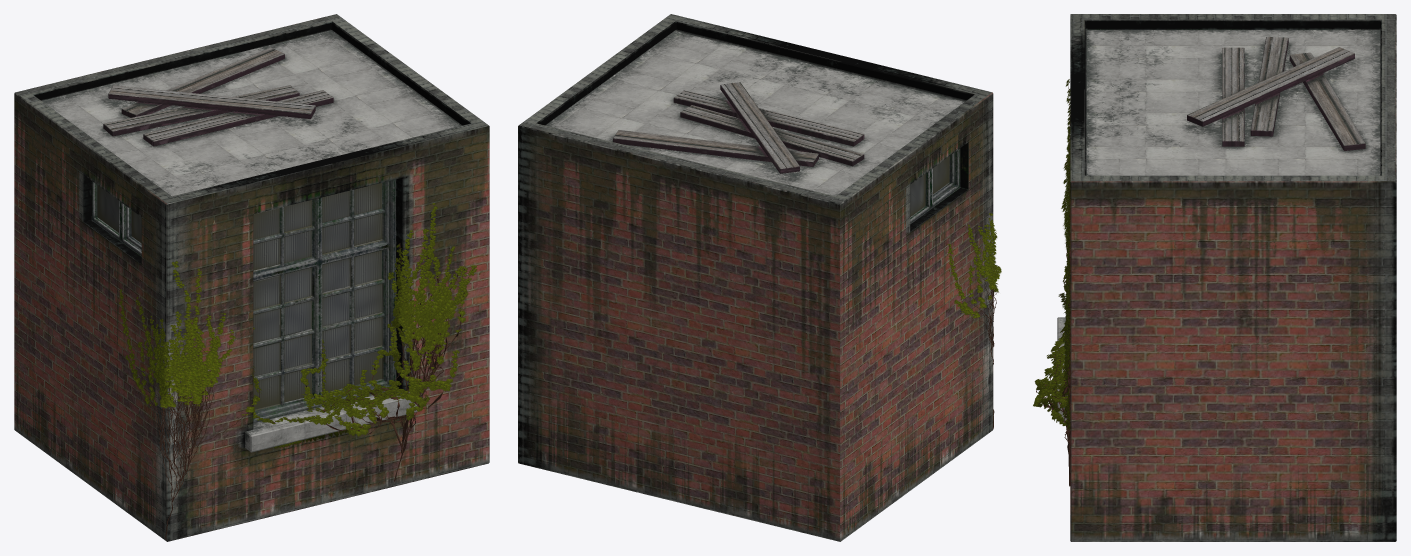
File: old_shack_rooftop_prop2_gameready.glb
The picture shows the model from 3 angles, left to right: view 1: azimuth 30°, elevation 25°; view 2: azimuth 150°, elevation 25°; view 3: azimuth 270°, elevation 25°; orthographic projection. The views are drawn at different scales.
Visible parts, largest first — view 1: Cube_0, IvyLeaf.001_3, IvyLeaf_1, IVY_Curve_2, IVY_Curve.001_4; view 2: Cube_0, IvyLeaf_1; view 3: Cube_0, IvyLeaf.001_3, IVY_Curve.001_4, IvyLeaf_1.
Part boxes in pixels (bbox=[...]): Cube_0: bbox=[14, 14, 489, 541]; IvyLeaf.001_3: bbox=[253, 203, 477, 448]; IvyLeaf_1: bbox=[119, 261, 261, 417]; IVY_Curve_2: bbox=[122, 263, 259, 539]; IVY_Curve.001_4: bbox=[256, 206, 472, 481]; Cube_0: bbox=[518, 14, 993, 541]; IvyLeaf_1: bbox=[947, 213, 1001, 319]; Cube_0: bbox=[1057, 14, 1396, 541]; IvyLeaf.001_3: bbox=[1033, 220, 1070, 429]; IVY_Curve.001_4: bbox=[1036, 222, 1070, 486]; IvyLeaf_1: bbox=[1061, 79, 1070, 291].
Bounding box in the file's own units: 2.06 × 2.01 × 1.84.
7 materials, 6 textured.
